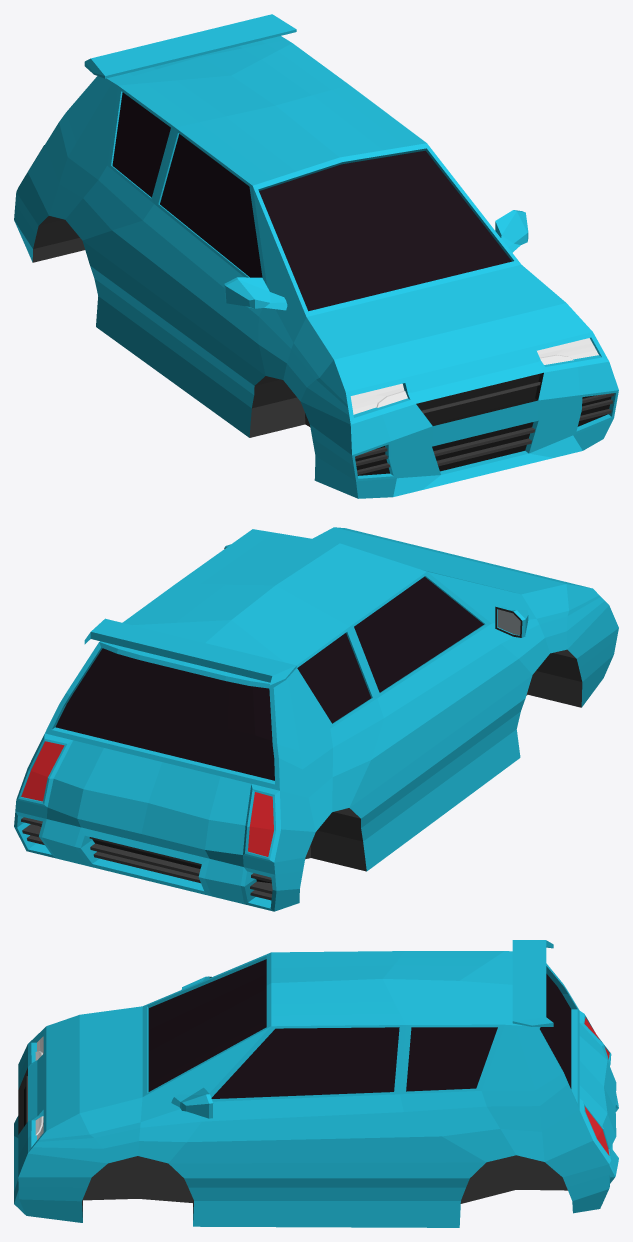
Rendered from protocar.fbx.
3 renders of one model, top to bottom at view 1: azimuth 30°, elevation 25°; view 2: azimuth 150°, elevation 25°; view 3: azimuth 270°, elevation 25°, orthographic. The views are drawn at different scales.
Parts seen in each view (by area): view 1: ProtoCar; view 2: ProtoCar; view 3: ProtoCar.
Boxes of the visible parts, x1,y1,x2,y2 form: ProtoCar: [14, 14, 618, 498]; ProtoCar: [14, 527, 618, 911]; ProtoCar: [14, 940, 618, 1227].
Size of the model in its own units: 380 by 268 by 764.
